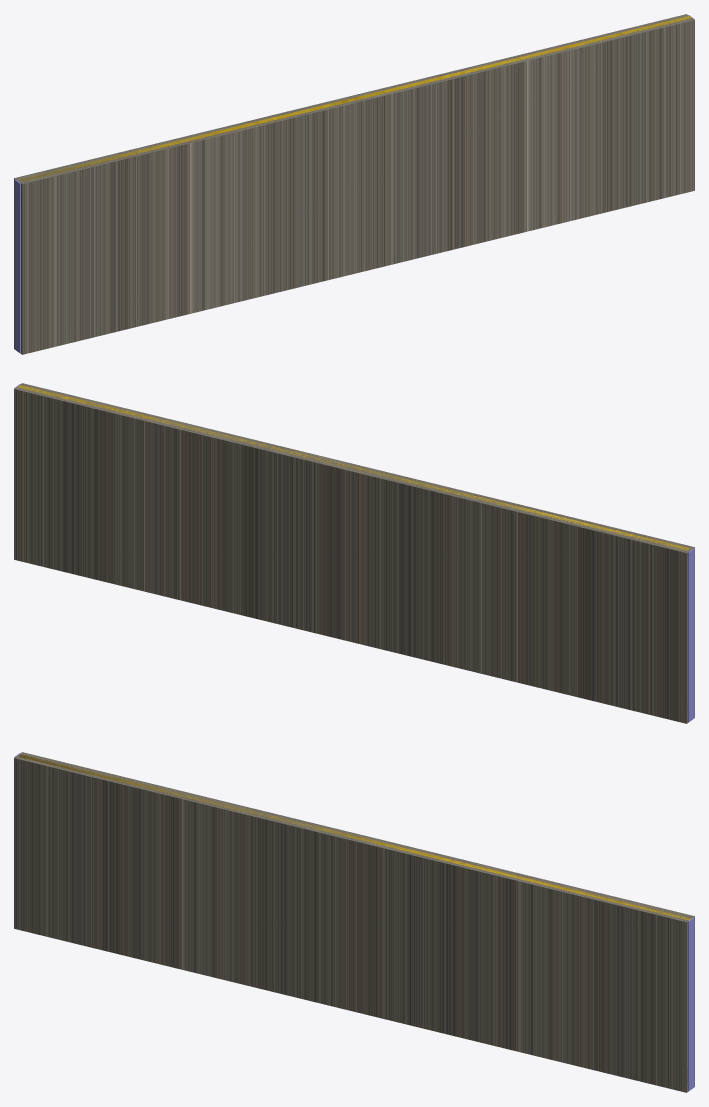
File: walkway_01_railing_long.DAE
The picture shows the model from 3 angles, top to bottom: view 1: azimuth 30°, elevation 25°; view 2: azimuth 150°, elevation 25°; view 3: azimuth 330°, elevation 25°; orthographic projection.
Parts seen in each view (by area): view 1: colbox-01, walkway_01_rail_long, bounds; view 2: colbox-01, walkway_01_rail_long, bounds; view 3: colbox-01, walkway_01_rail_long, bounds.
Boxes of the visible parts, x1,y1,x2,y2 form: colbox-01: [14, 14, 694, 354]; walkway_01_rail_long: [19, 16, 691, 181]; bounds: [14, 15, 694, 353]; colbox-01: [14, 383, 694, 723]; walkway_01_rail_long: [17, 385, 690, 550]; bounds: [14, 384, 694, 722]; colbox-01: [14, 752, 694, 1092]; walkway_01_rail_long: [18, 754, 690, 920]; bounds: [14, 753, 694, 1091].
Size of the model in its own units: 707 by 15 by 171.
Materials: 3 (2 with a texture image).
